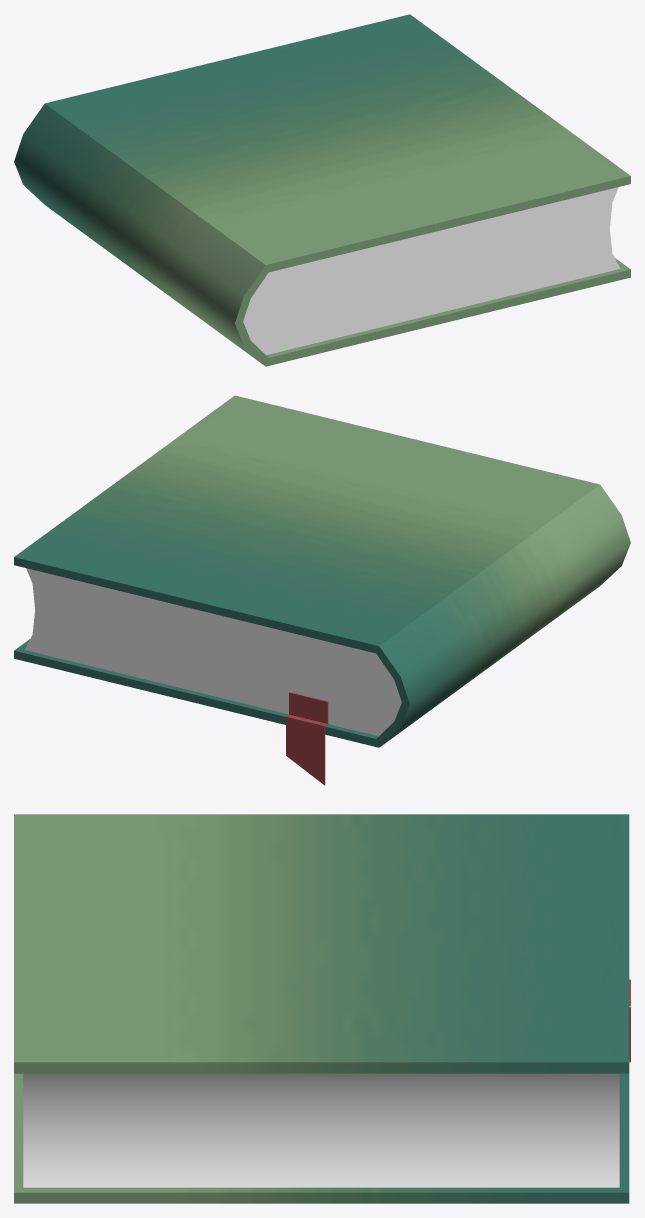
Rendered from Book1.fbx.
3 renders of one model, top to bottom at view 1: azimuth 30°, elevation 25°; view 2: azimuth 150°, elevation 25°; view 3: azimuth 270°, elevation 25°, orthographic. The views are drawn at different scales.
Visible parts, largest first — view 1: book1; view 2: book1; view 3: book1.
Boxes of the visible parts, box(x1,y1,x2,y2) form: book1: box(14, 14, 630, 366); book1: box(14, 395, 630, 785); book1: box(14, 814, 630, 1203).
Size of the model in its own units: 25.86 by 9.48 by 25.06.
